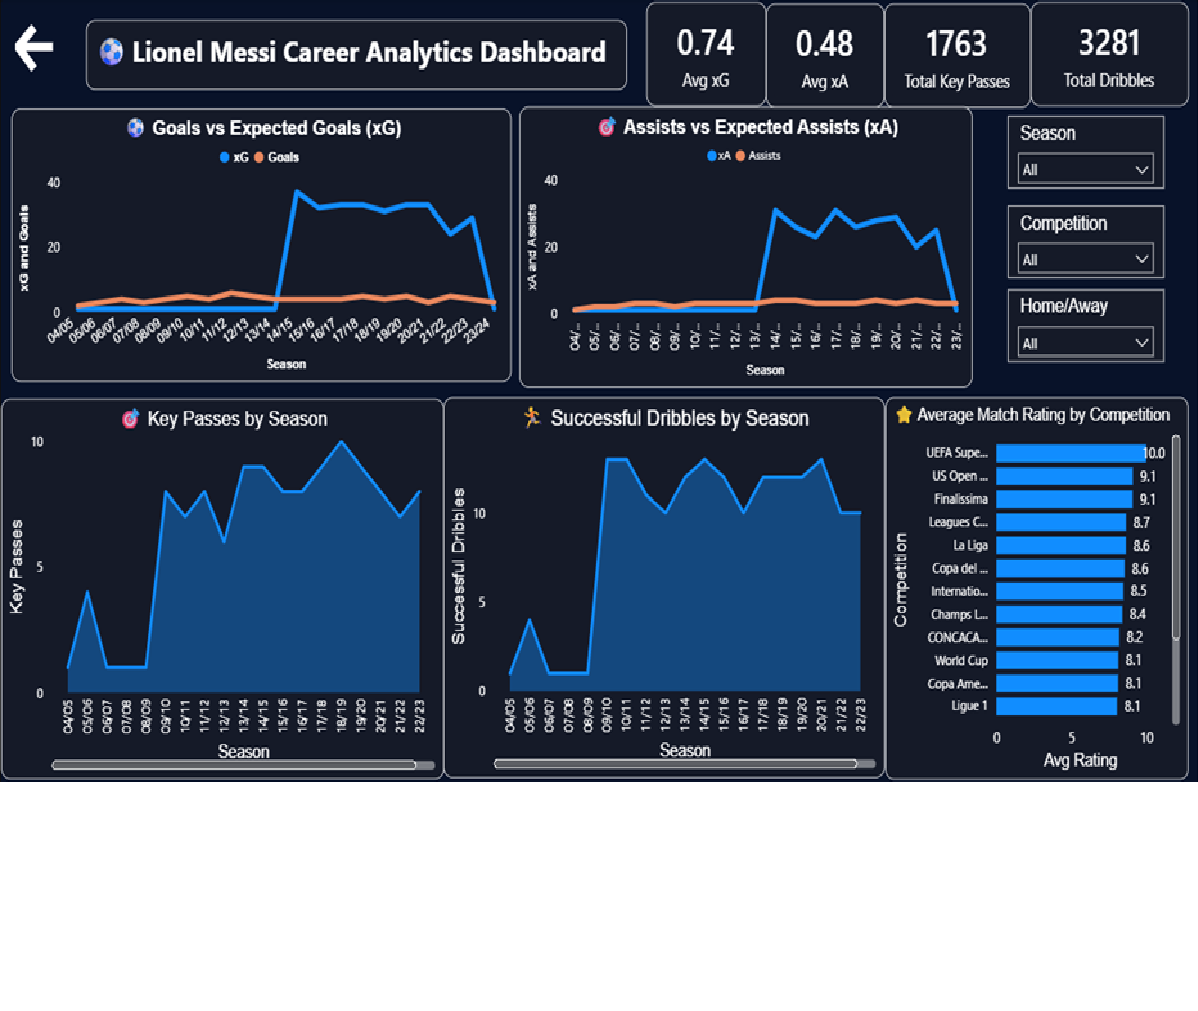

The page's visual inventory and layout, read from the dashboard file:
{"tool":"powerbi","page":{"name":"Page 2","canvas":[1280,720],"ordinal":1},"visuals":[{"type":"cardVisual","fields":{"Data":["leomessi_matches.Avg xG"]},"box":[690.2,2.7,127.6,94.7],"z":0},{"type":"cardVisual","fields":{"Data":["leomessi_matches.Avg xA"]},"box":[817.8,4.1,126.2,94.7],"z":1000},{"type":"cardVisual","fields":{"Data":["leomessi_matches.Total Key Passes"]},"box":[944.1,4.1,156.4,94.7],"z":2000},{"type":"cardVisual","fields":{"Data":["leomessi_matches.Total Dribbles"]},"box":[1100.5,2.7,168.8,94.7],"z":3000},{"type":"lineChart","title":"⚽ Goals vs Expected Goals (xG)","fields":{"Category":["leomessi_matches.Season"],"Y":["Count(leomessi_matches.xG)","Count(leomessi_matches.Goals)"]},"box":[12.3,98.8,533.8,247],"z":4000},{"type":"lineChart","title":"🎯 Assists vs Expected Assists (xA)","fields":{"Category":["leomessi_matches.Season"],"Y":["Count(leomessi_matches.xA)","Count(leomessi_matches.Assists)"]},"box":[554.5,96.9,484.4,253.4],"z":5000},{"type":"areaChart","title":"🎯 Key Passes by Season","fields":{"Category":["leomessi_matches.Season"],"Y":["Count(leomessi_matches.Key Passes)"]},"box":[1.5,360.7,472.5,344.3],"z":6000},{"type":"areaChart","title":"🏃 Successful Dribbles by Season","fields":{"Category":["leomessi_matches.Season"],"Y":["Count(leomessi_matches.Successful Dribbles)"]},"box":[474,359.2,471,344.3],"z":7000},{"type":"clusteredBarChart","title":"⭐ Average Match Rating by Competition","fields":{"Category":["leomessi_matches.Competition"],"Y":["leomessi_matches.Avg Rating"]},"box":[944.9,359.2,323.4,345.8],"z":8000},{"type":"slicer","fields":{"Values":["leomessi_matches.Season"]},"box":[1076.1,105.8,166.9,65.6],"z":9000},{"type":"slicer","fields":{"Values":["leomessi_matches.Competition"]},"box":[1076.1,186.3,166.9,65.6],"z":10000},{"type":"slicer","fields":{"Values":["leomessi_matches.Home/Away"]},"box":[1076.1,262.3,166.9,65.6],"z":11000},{"type":"textbox","box":[91.9,19.2,577.7,63.1],"z":12000},{"type":"actionButton","box":[12.3,19.2,52.1,50.8],"z":13000}]}

Visuals, with their boxes in screenshot pixels (x1, y1, x2, y2):
cardVisual - leomessi_matches.Avg xG: BBox(646, 0, 764, 56)
cardVisual - leomessi_matches.Avg xA: BBox(764, 0, 881, 57)
cardVisual - leomessi_matches.Total Key Passes: BBox(881, 0, 1025, 57)
cardVisual - leomessi_matches.Total Dribbles: BBox(1025, 0, 1181, 56)
"⚽ Goals vs Expected Goals (xG)" lineChart: BBox(21, 57, 513, 285)
"🎯 Assists vs Expected Assists (xA)" lineChart: BBox(521, 55, 968, 289)
"🎯 Key Passes by Season" areaChart: BBox(11, 299, 447, 616)
"🏃 Successful Dribbles by Season" areaChart: BBox(447, 297, 882, 615)
"⭐ Average Match Rating by Competition" clusteredBarChart: BBox(882, 297, 1180, 616)
slicer - leomessi_matches.Season: BBox(1003, 63, 1157, 124)
slicer - leomessi_matches.Competition: BBox(1003, 138, 1157, 198)
slicer - leomessi_matches.Home/Away: BBox(1003, 208, 1157, 268)
textbox: BBox(94, 0, 627, 42)
actionButton: BBox(21, 0, 69, 30)
